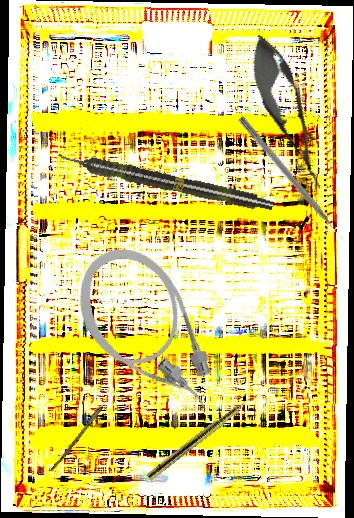Cannula: (59, 229, 235, 441)
Handpiece: (56, 146, 275, 216), (145, 390, 260, 483)
Micro Scissor: (237, 28, 339, 197)
Pusher: (236, 115, 348, 246)
Surgical Spoon: (50, 385, 118, 474)
